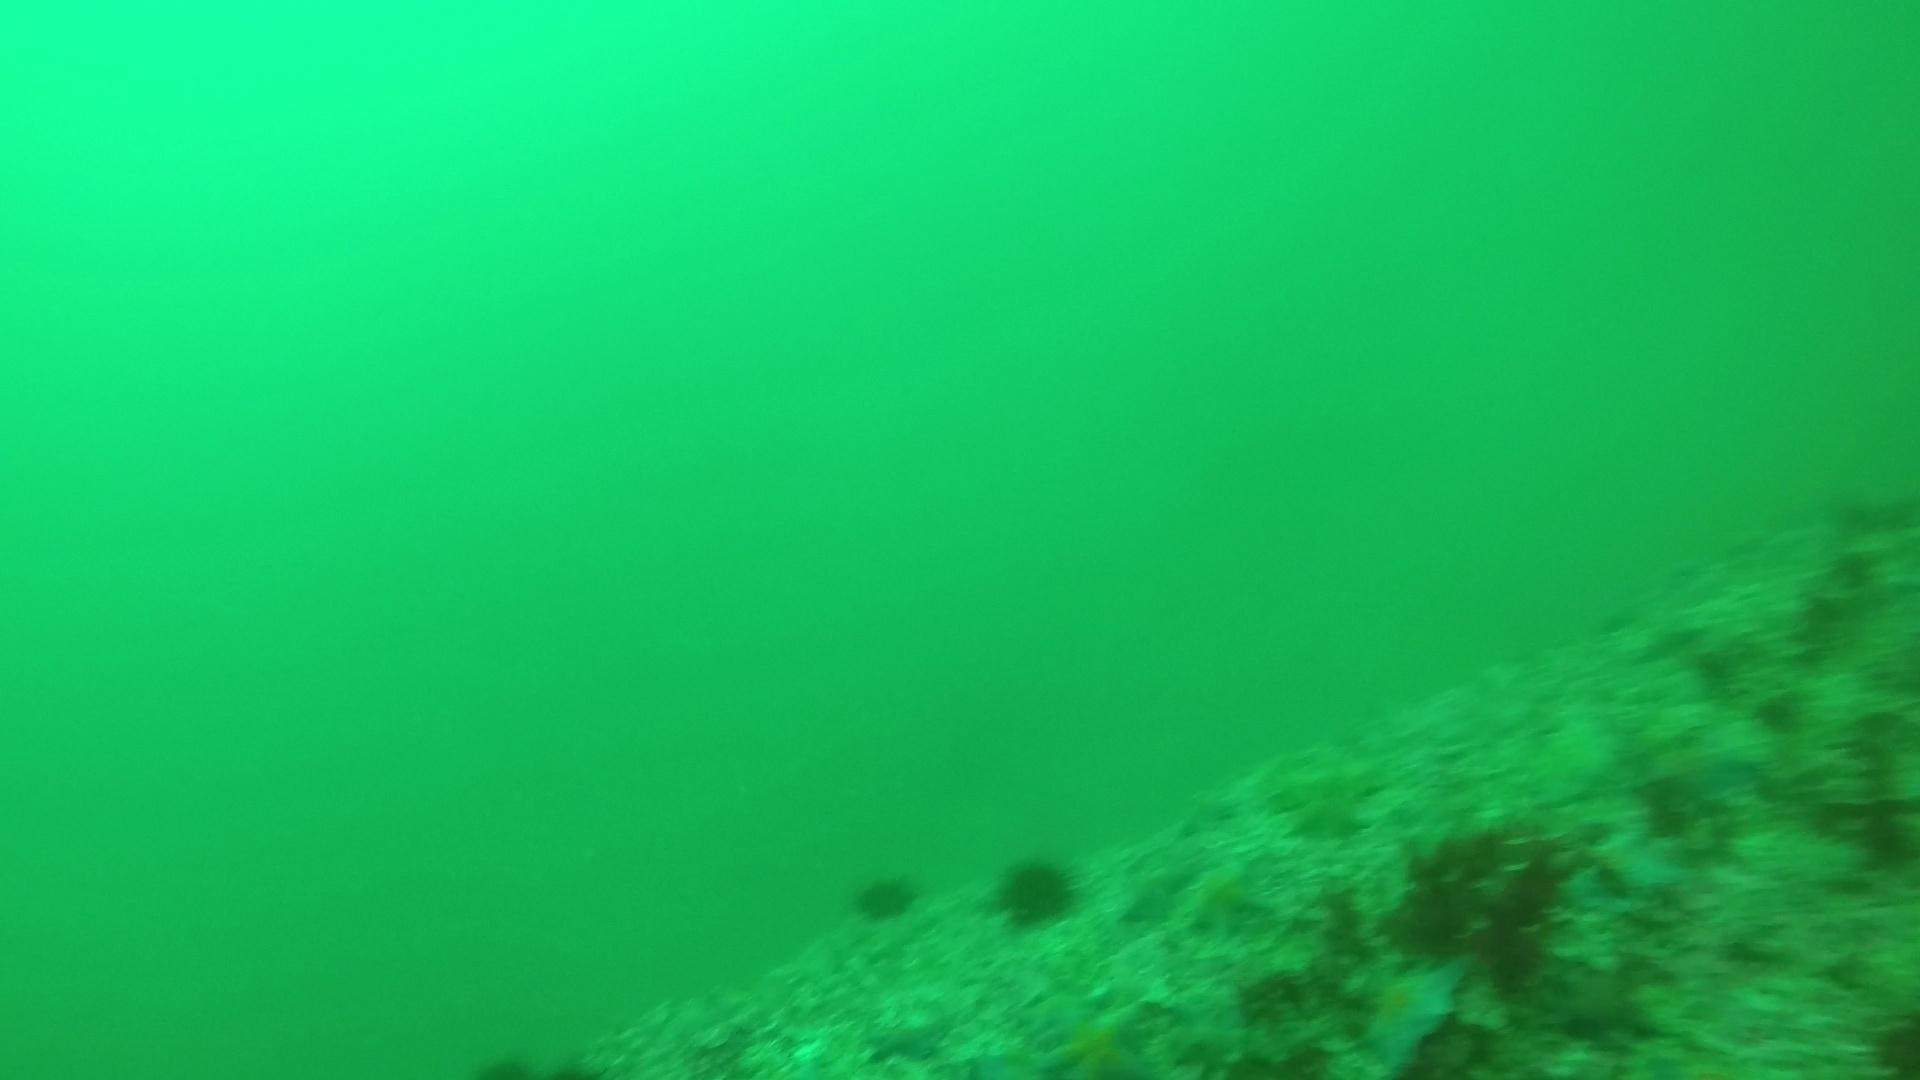echinus: (990, 848, 1083, 931), (1859, 1004, 1919, 1077), (849, 866, 920, 924)
starfish: (1344, 947, 1474, 1073), (1267, 756, 1389, 843), (1634, 735, 1768, 807), (1036, 996, 1156, 1075), (1174, 851, 1273, 940), (1589, 823, 1692, 897), (1116, 855, 1199, 927), (860, 1017, 951, 1067), (1176, 796, 1240, 840)
